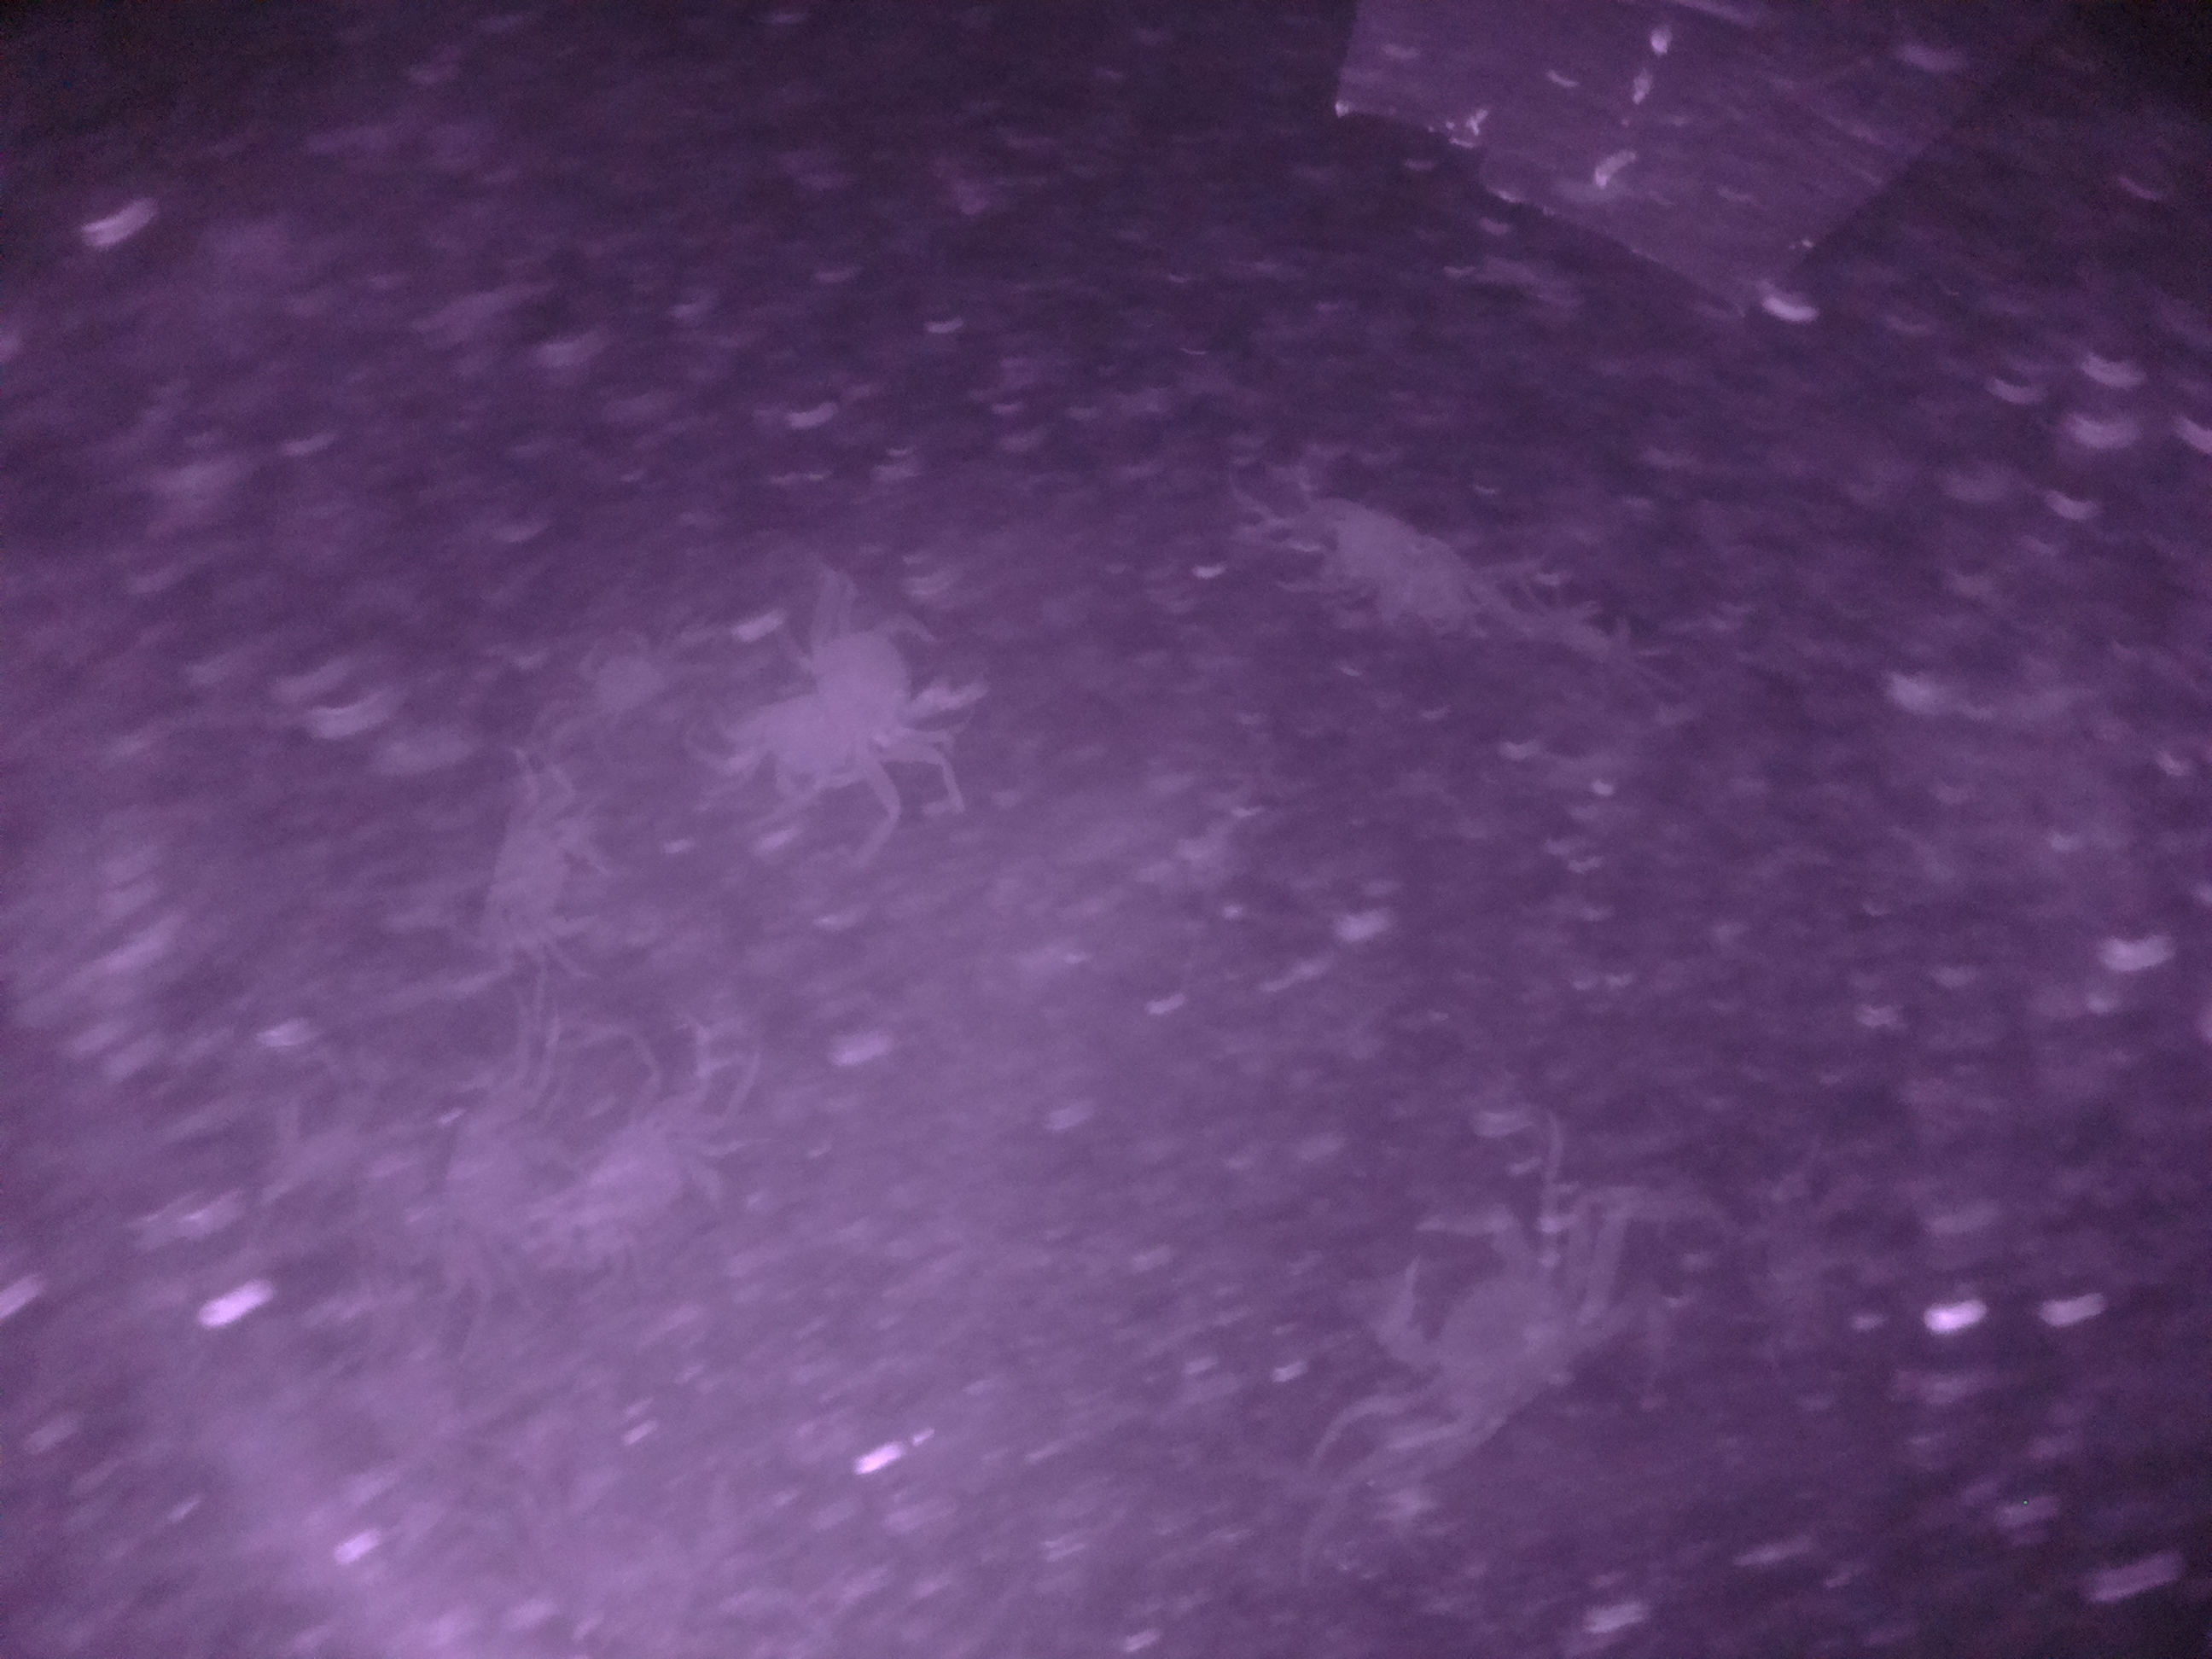Crab: (765, 589, 1000, 782), (460, 786, 637, 988)
